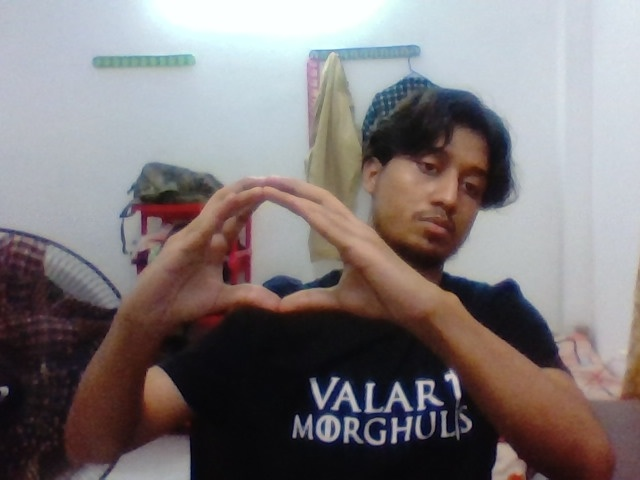O: (150, 156, 393, 359)
